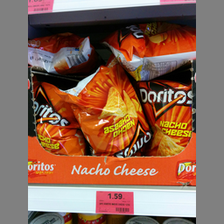chips: (59, 55, 151, 157), (103, 20, 196, 82), (137, 80, 195, 158), (29, 79, 86, 157)
